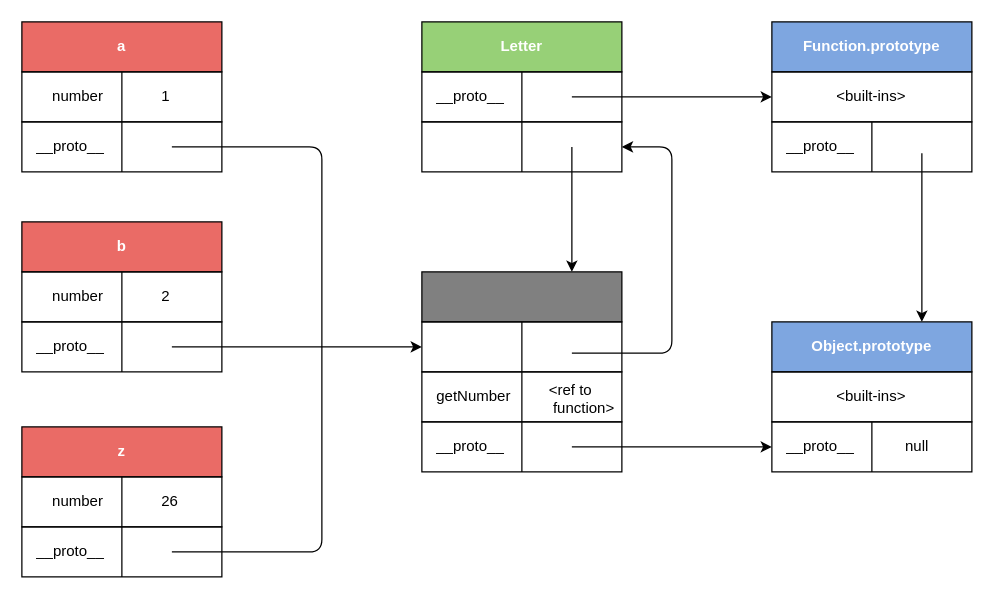
The diagram is 994 pixels wide and 600 high, and some of its shapes have lost their labels. The box of each missing label's shape, as (x1, y1, x2, y2) in pixels:
constructor: (421, 321, 622, 372)
Letter.prototype: (421, 271, 622, 322)
prototype: (421, 121, 622, 172)
